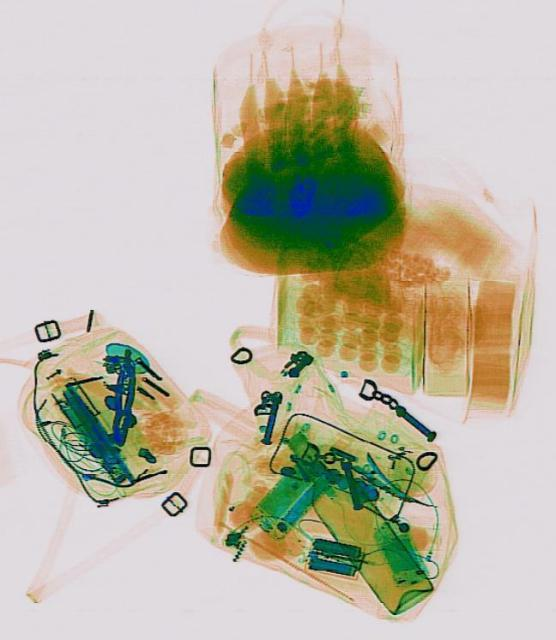Pliers: (106, 366, 137, 444)
